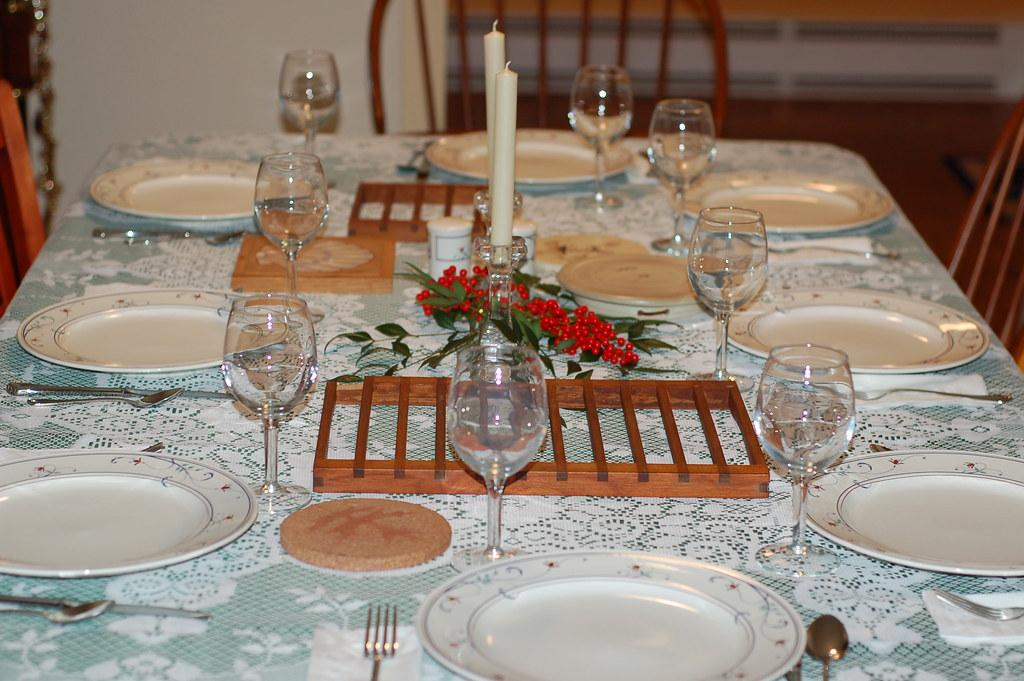table: (2, 129, 1023, 680)
